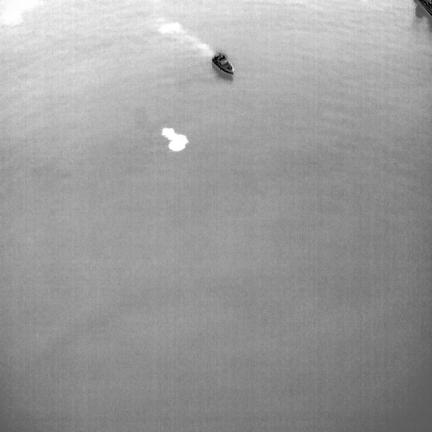flukeprints: (162, 128, 188, 150)
